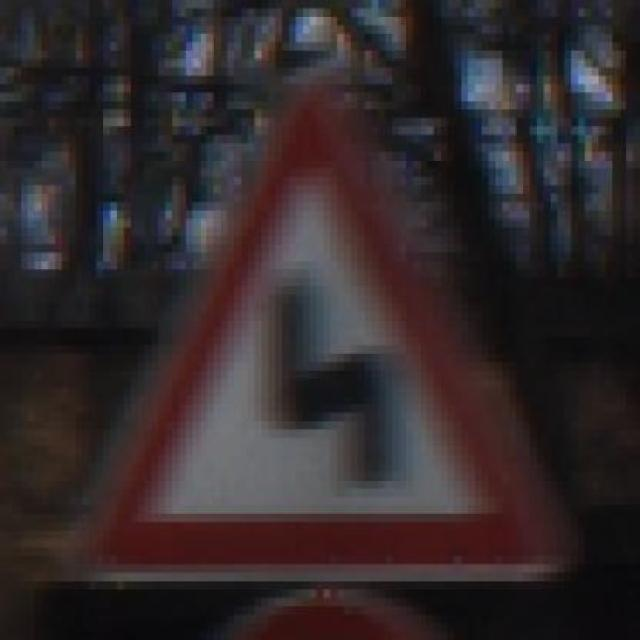Left Zig Zag Traffic: (48, 75, 578, 572)
